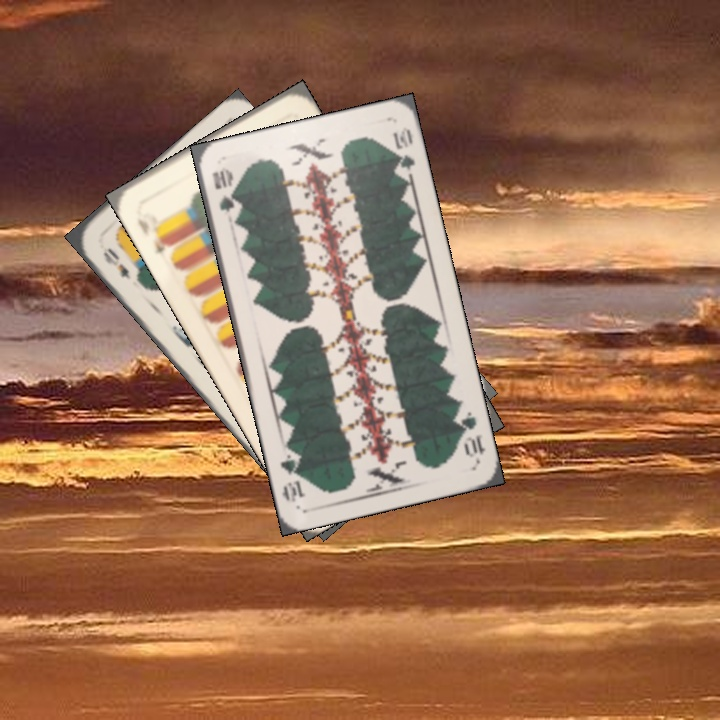E10: (133, 214, 174, 257)
EO: (99, 243, 134, 283)
G10: (454, 407, 488, 463), (208, 163, 238, 215)
